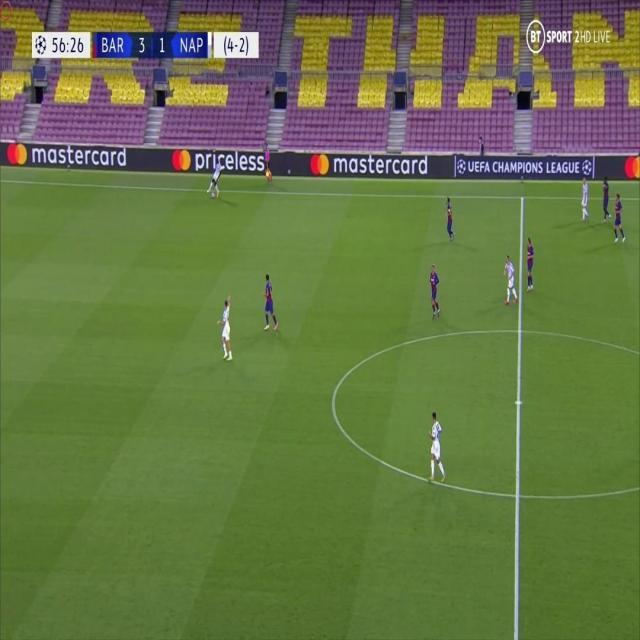ball: (210, 190, 216, 202)
player: (426, 408, 448, 485), (215, 295, 235, 362), (261, 271, 280, 332), (427, 260, 443, 320), (501, 252, 518, 306), (611, 191, 627, 243), (524, 234, 537, 291), (206, 160, 223, 198), (579, 169, 591, 220), (599, 173, 611, 222), (445, 195, 457, 242)
referee: (263, 139, 273, 185)
